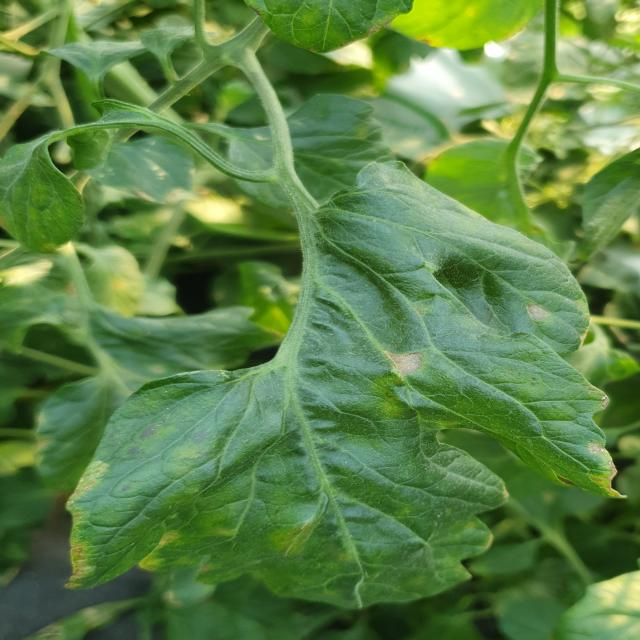Leaf Mold: (62, 155, 630, 610)
